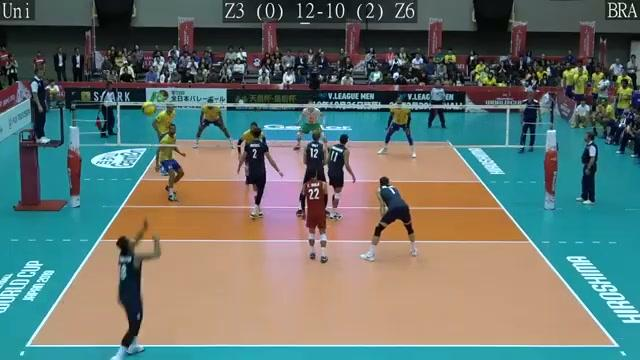ball: (138, 97, 161, 117)
